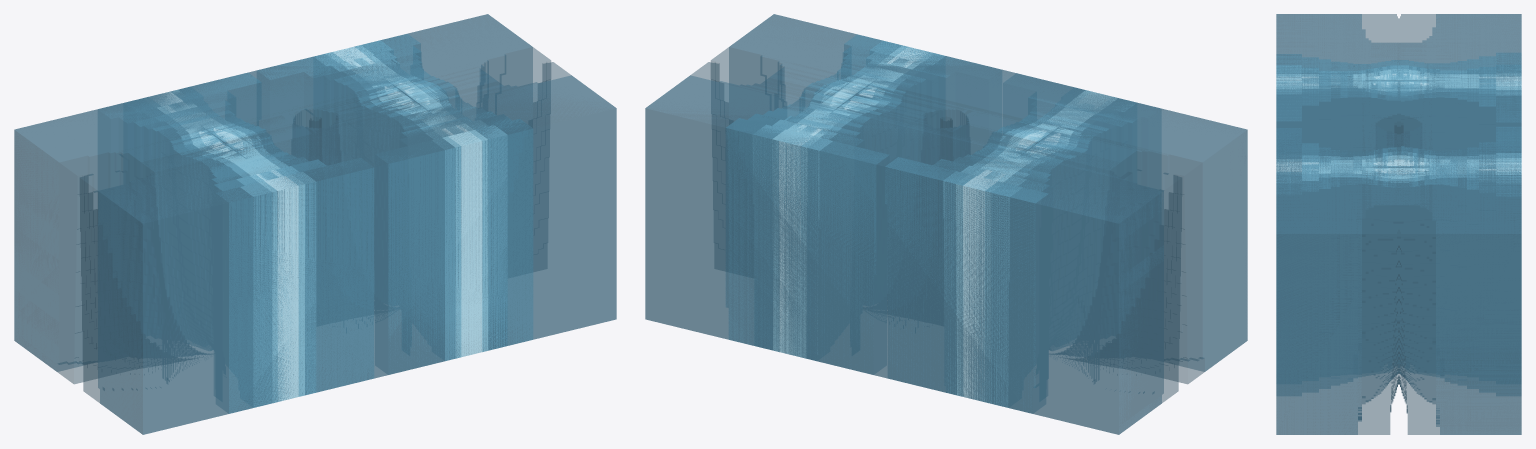
The model's file is local-cfl.glb.
The picture shows the model from 3 angles, left to right: view 1: azimuth 30°, elevation 25°; view 2: azimuth 150°, elevation 25°; view 3: azimuth 270°, elevation 25°; orthographic projection. The views are drawn at different scales.
Parts seen in each view (by area): view 1: Tau05, Tau06, Tau04, Tau03, Tau02, Tau01; view 2: Tau05, Tau06, Tau04, Tau03, Tau02, Tau01; view 3: Tau05, Tau06, Tau04, Tau03, Tau02, Tau01.
Part boxes in pixels (x1,y1,x2,y2): Tau05: (14,14,616,434); Tau06: (14,14,616,434); Tau04: (104,34,533,413); Tau03: (161,40,507,407); Tau02: (157,45,488,401); Tau01: (158,47,482,401); Tau05: (645,14,1247,434); Tau06: (645,14,1247,434); Tau04: (725,34,1137,413); Tau03: (752,41,1135,407); Tau02: (773,46,1117,396); Tau01: (779,47,1060,399); Tau05: (1276,14,1521,434); Tau06: (1276,14,1521,434); Tau04: (1276,52,1521,380); Tau03: (1276,65,1521,183); Tau02: (1276,69,1521,178); Tau01: (1276,73,1521,173).
Size of the model in its own units: 3 by 1.28 by 1.41.
